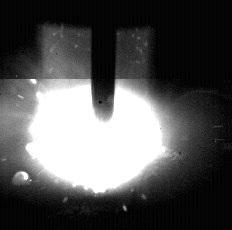arame: (92, 0, 116, 123)
poca: (27, 0, 165, 230)
